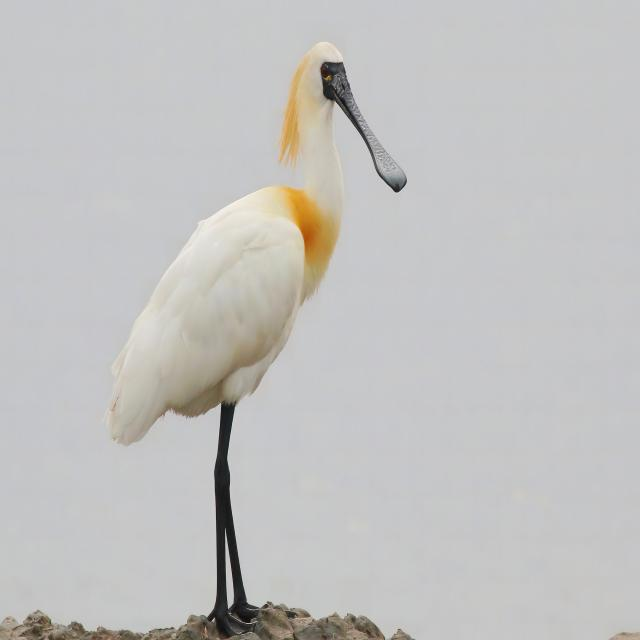Black-faced spoonbill: (106, 43, 406, 635)
